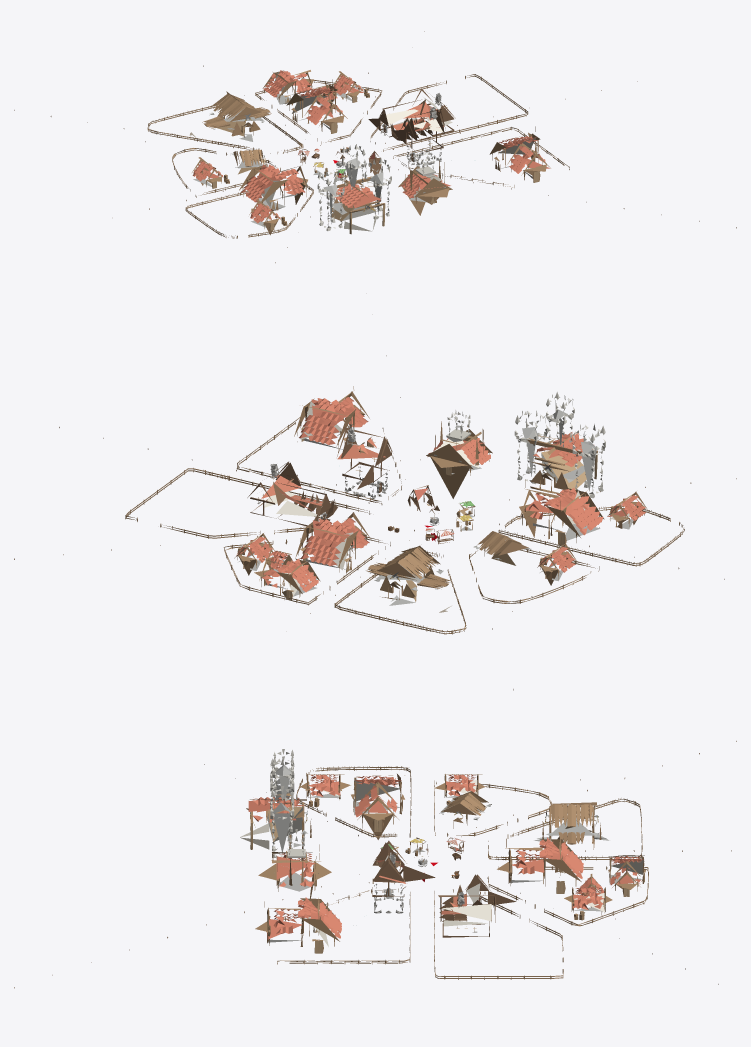
Rendered from chunk_1_1_lod2.glb.
3 views of the same model, one above another, from view 1: azimuth 30°, elevation 25°; view 2: azimuth 150°, elevation 25°; view 3: azimuth 270°, elevation 25° (orthographic). The views are drawn at different scales.
Parts seen in each view (by area): view 1: Batched_Chunk_1_1.001; view 2: Batched_Chunk_1_1.001; view 3: Batched_Chunk_1_1.001.
Boxes of the visible parts, box(x1,y1,x2,y2) form: Batched_Chunk_1_1.001: box(14, 31, 736, 262); Batched_Chunk_1_1.001: box(14, 355, 736, 690); Batched_Chunk_1_1.001: box(14, 741, 736, 988).
Size of the model in its own units: 173 by 29.38 by 169.
